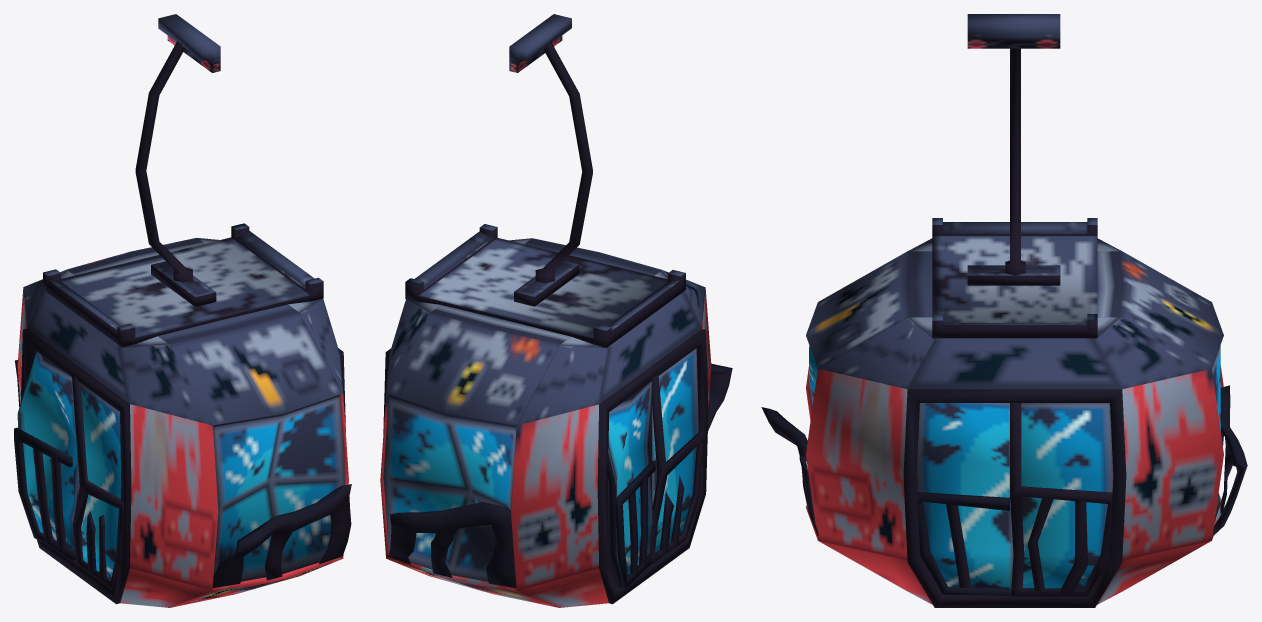
The model's file is Bondinho_Quebrado.fbx.
The picture shows the model from 3 angles, left to right: view 1: azimuth 30°, elevation 25°; view 2: azimuth 150°, elevation 25°; view 3: azimuth 270°, elevation 25°; orthographic projection. The views are drawn at different scales.
Parts seen in each view (by area): view 1: Bondinho_Quebrado; view 2: Bondinho_Quebrado; view 3: Bondinho_Quebrado.
Boxes of the visible parts, x1,y1,x2,y2 form: Bondinho_Quebrado: [14, 14, 351, 607]; Bondinho_Quebrado: [380, 14, 732, 607]; Bondinho_Quebrado: [761, 14, 1247, 607].
Bounding box in the file's own units: 280 × 482 × 594.
